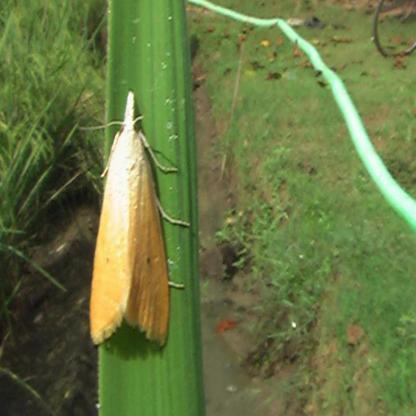stem-borer: (88, 86, 196, 352)
